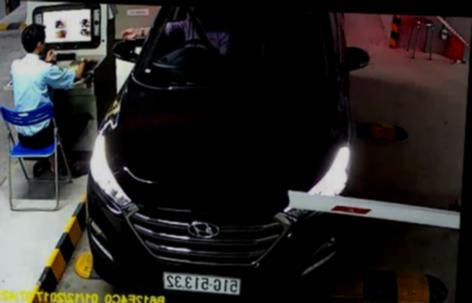License_Plate: (157, 269, 246, 298)
